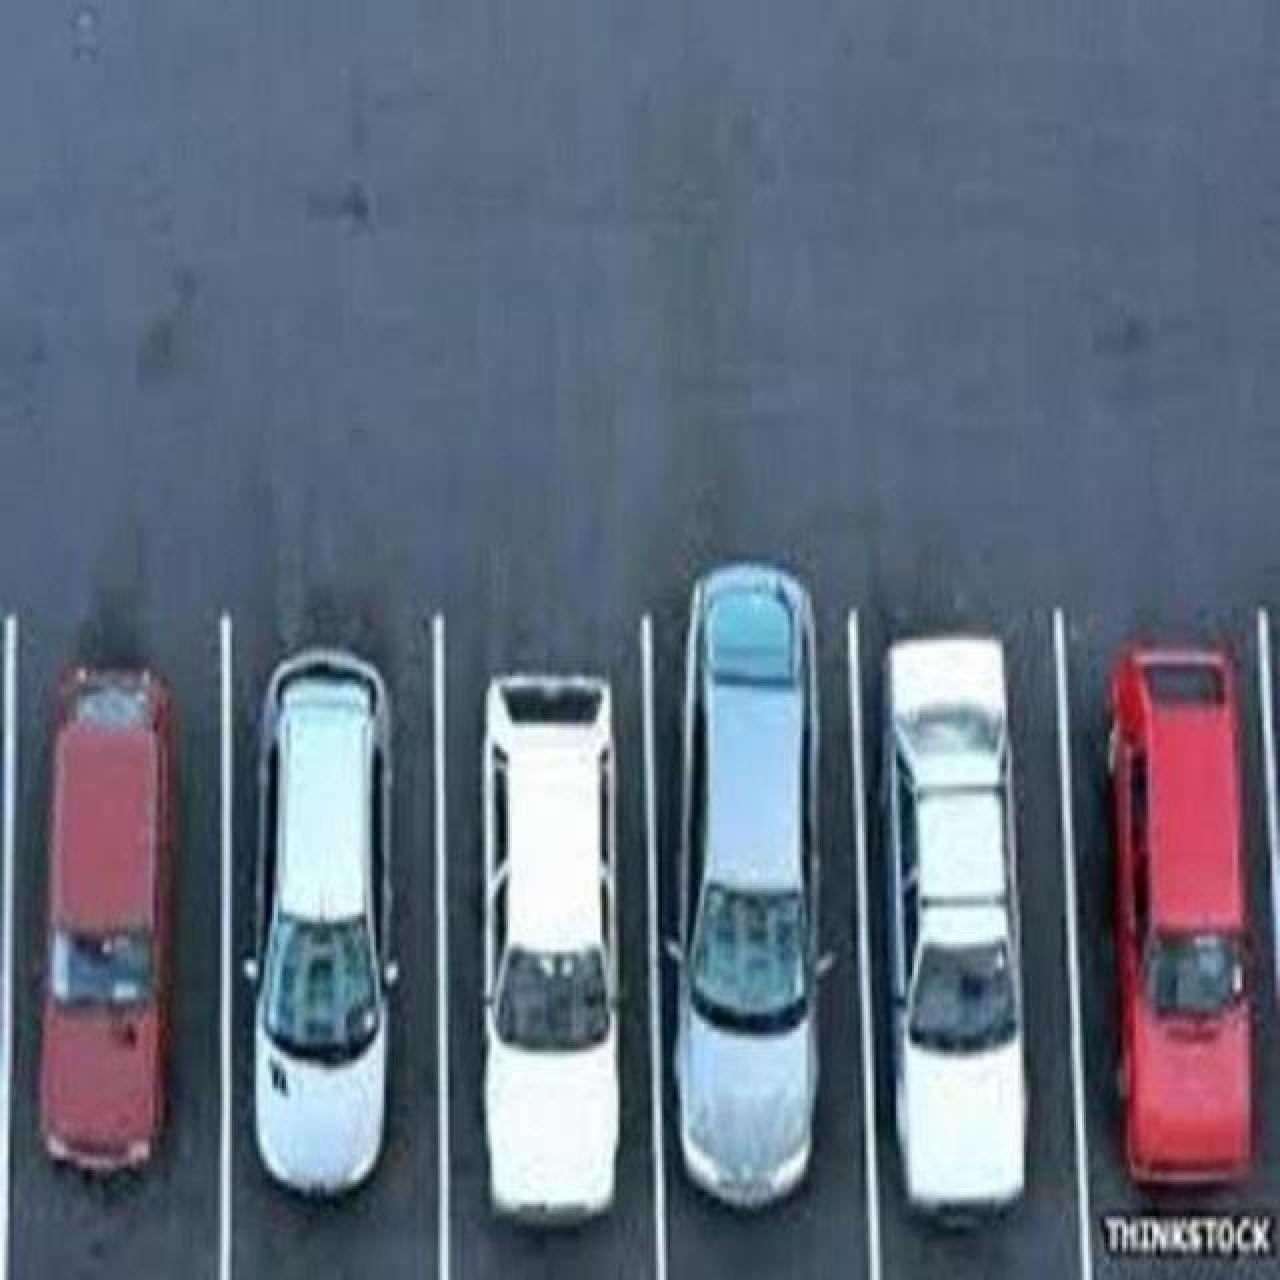car: (666, 558, 824, 1212), (876, 628, 1028, 1232), (244, 646, 399, 1200), (1104, 640, 1258, 1190), (478, 670, 622, 1230), (34, 656, 178, 1178)
